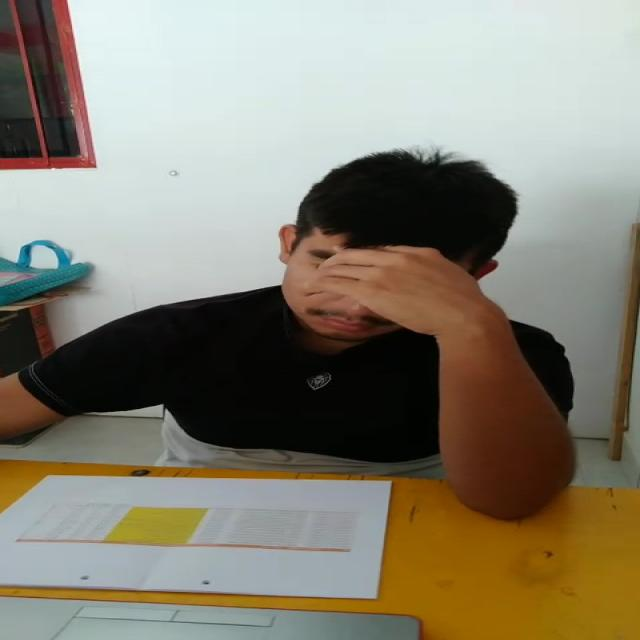7_mano_rostro: (313, 247, 475, 397)
